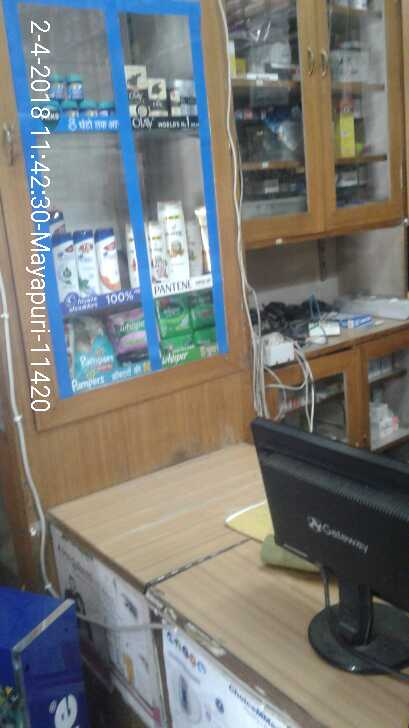vicks: (41, 67, 119, 119)
